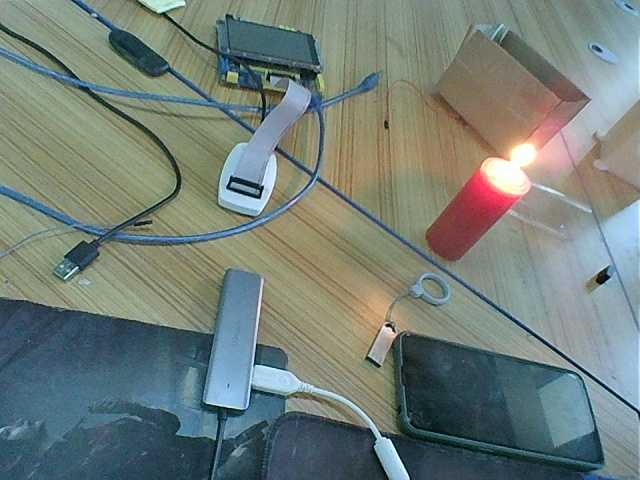candle: (427, 169, 518, 256)
fire: (486, 135, 545, 185)
